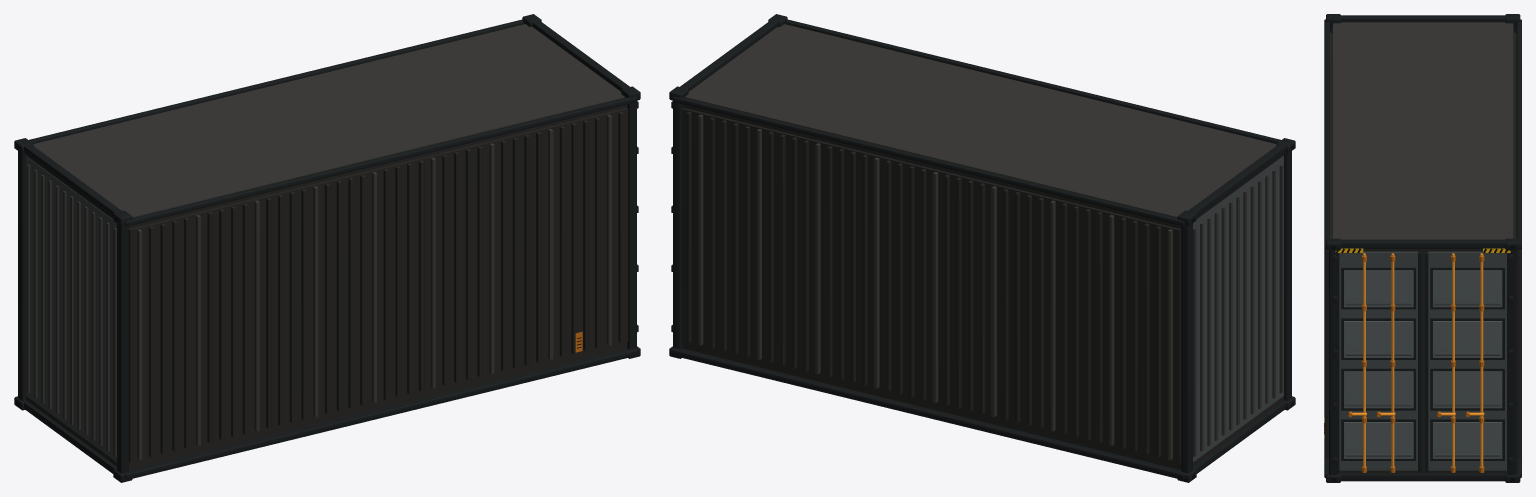
Rendered from ShippingContainer.glb.
The picture shows the model from 3 angles, left to right: view 1: azimuth 30°, elevation 25°; view 2: azimuth 150°, elevation 25°; view 3: azimuth 270°, elevation 25°; orthographic projection. The views are drawn at different scales.
Visible parts, largest first — view 1: ShippingContainer; view 2: ShippingContainer; view 3: ShippingContainer.
Part boxes in pixels (left/top/right/bottom): ShippingContainer: left=14, top=14, right=640, bottom=482; ShippingContainer: left=669, top=14, right=1295, bottom=482; ShippingContainer: left=1324, top=14, right=1521, bottom=482.
Size of the model in its own units: 22.43 by 10.78 by 8.05.
1 material, 1 textured.
